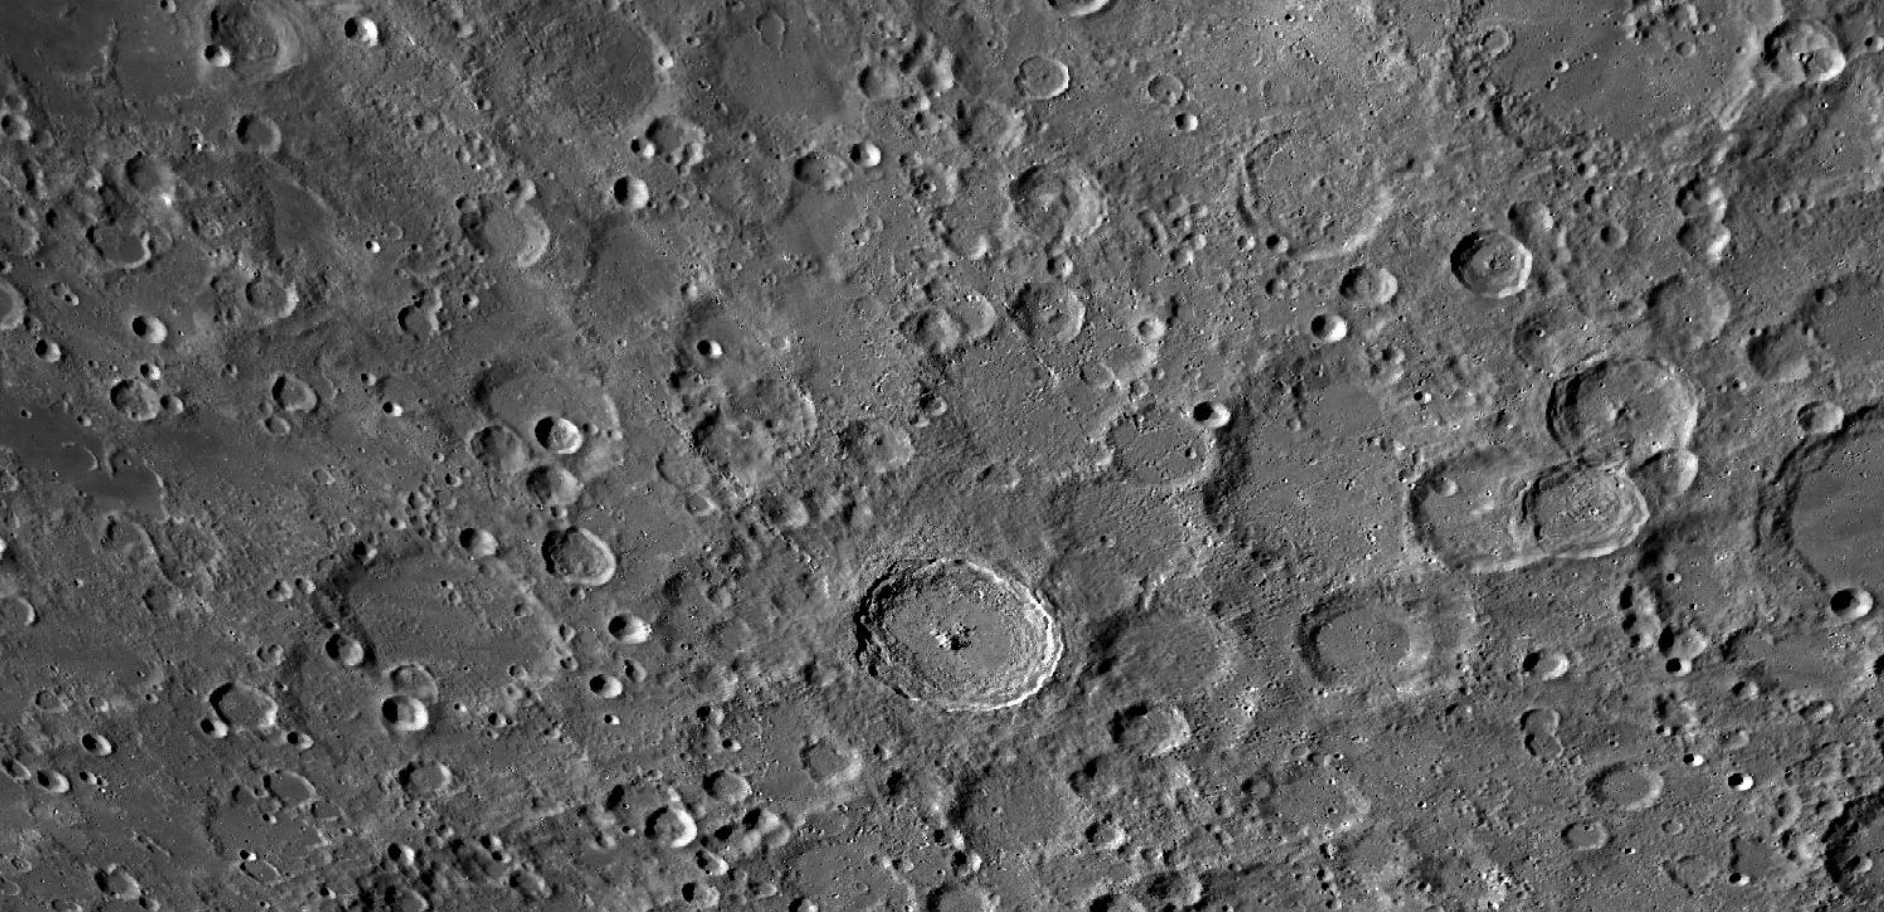crater: (291, 530, 576, 731), (827, 540, 1084, 737), (1272, 552, 1494, 731), (1221, 114, 1408, 270), (1091, 385, 1229, 503), (439, 175, 570, 288), (997, 151, 1123, 258), (1435, 221, 1555, 317), (192, 667, 286, 750), (1576, 746, 1675, 819), (1816, 565, 1883, 643), (628, 791, 708, 854), (217, 99, 288, 166), (1003, 44, 1073, 109), (1518, 624, 1579, 689), (112, 298, 175, 358), (1128, 55, 1197, 111), (1294, 303, 1361, 354), (843, 124, 890, 189), (1469, 14, 1524, 66), (688, 324, 747, 363)
